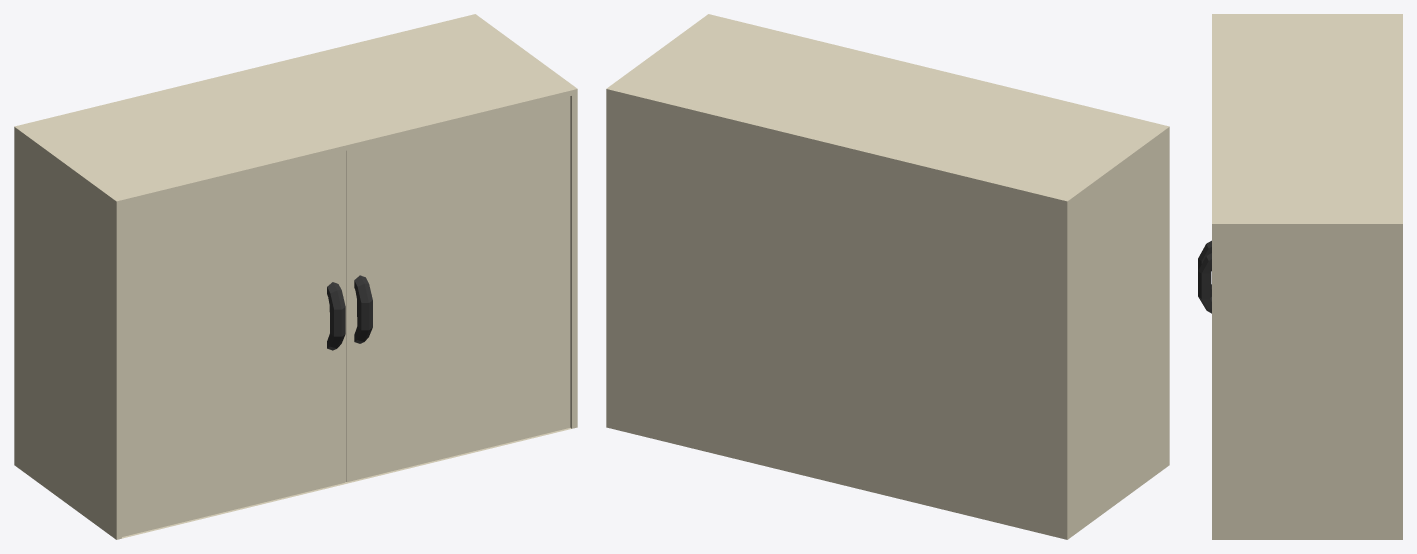
Rendered from Ármario rebaixado.fbx.
3 views of the same model, side by side, from view 1: azimuth 30°, elevation 25°; view 2: azimuth 150°, elevation 25°; view 3: azimuth 270°, elevation 25° (orthographic). The views are drawn at different scales.
Visible parts, largest first — view 1: ARMARIO, ALÇA; view 2: ARMARIO; view 3: ARMARIO, ALÇA.
Part boxes in pixels (left/top/right/bottom): ARMARIO: left=14, top=14, right=577, bottom=539; ALÇA: left=327, top=275, right=372, bottom=350; ARMARIO: left=606, top=14, right=1169, bottom=539; ARMARIO: left=1212, top=14, right=1402, bottom=539; ALÇA: left=1198, top=240, right=1211, bottom=313.
Size of the model in its own units: 1.27 by 0.8876 by 0.5219.
